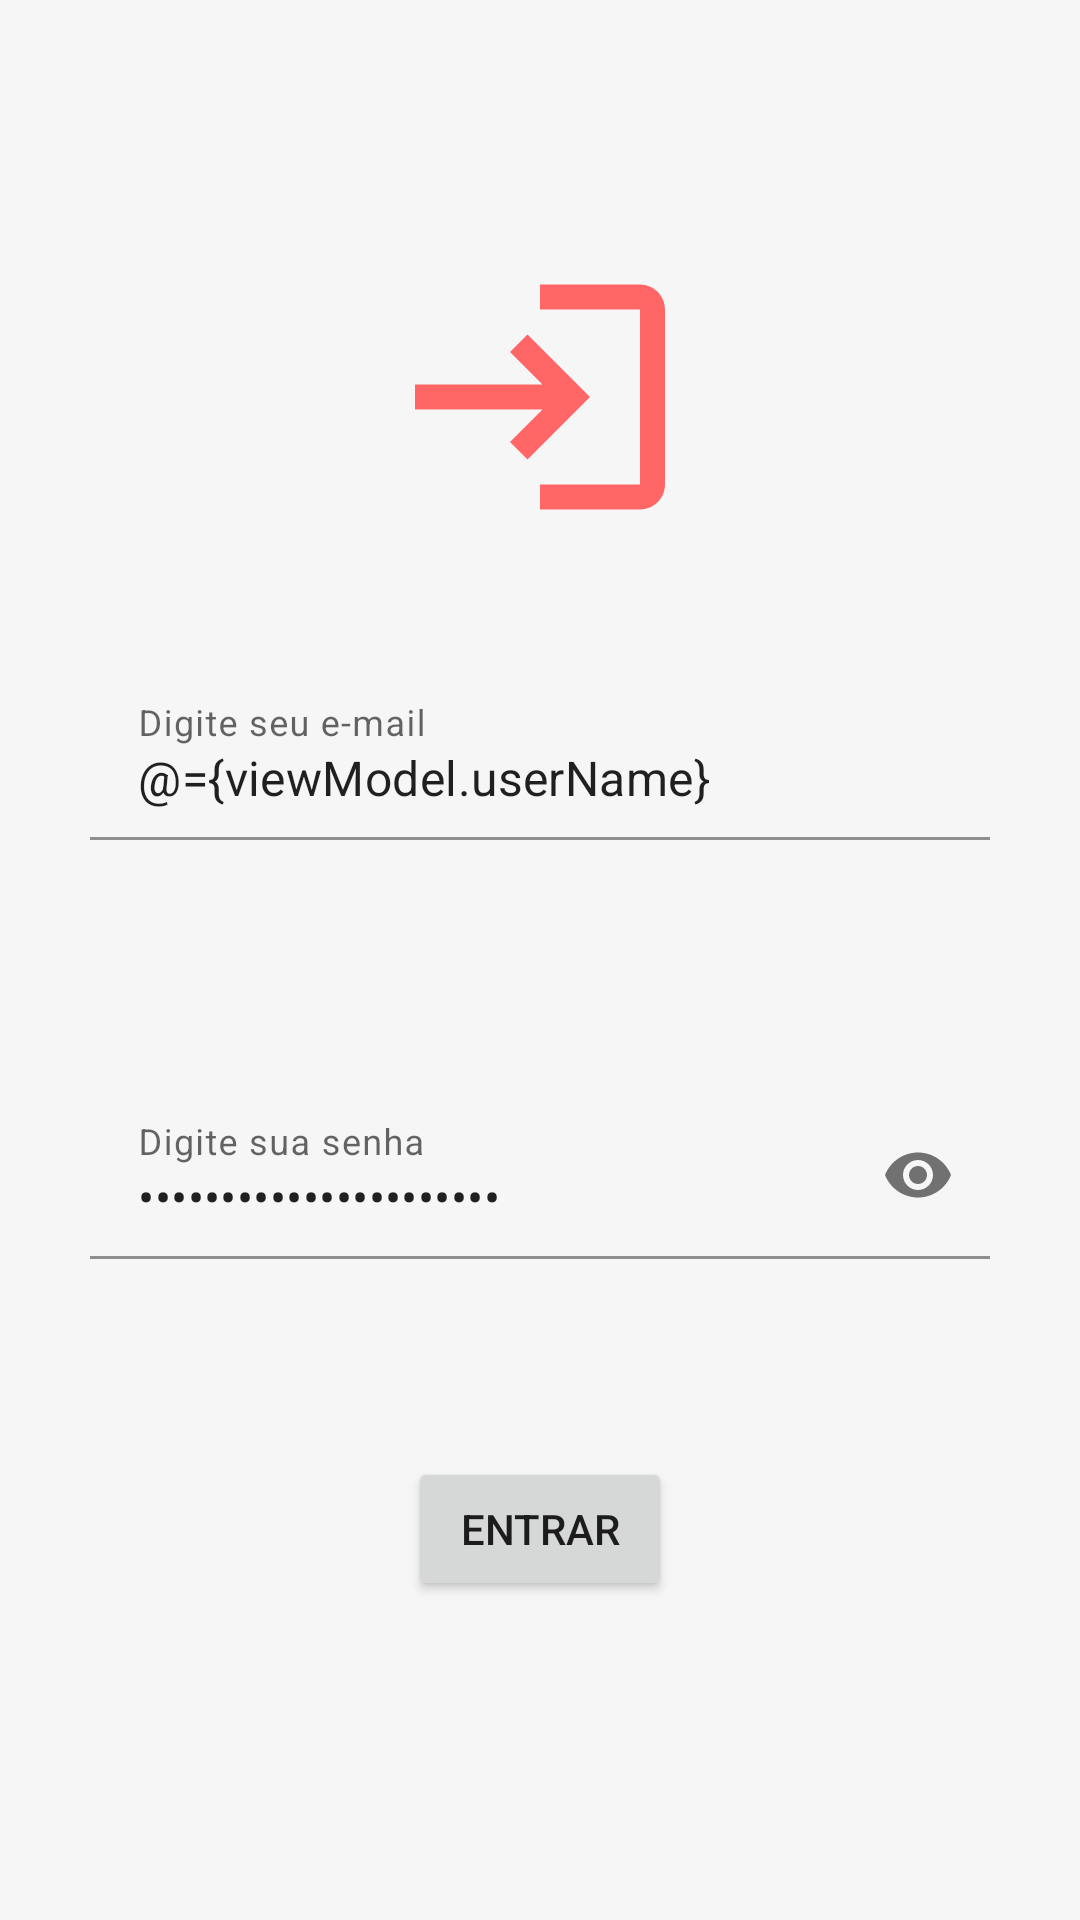

Named icons in this screenshot (1080×1920) and their centers, (x,y):
login: (540,397)
